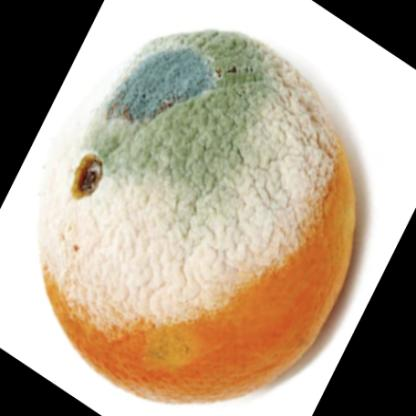rotten: (41, 33, 360, 405)
